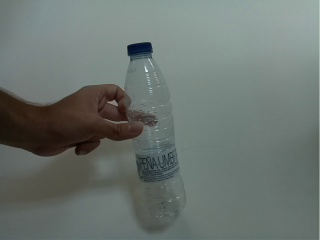botella plastico: (120, 40, 190, 221)
